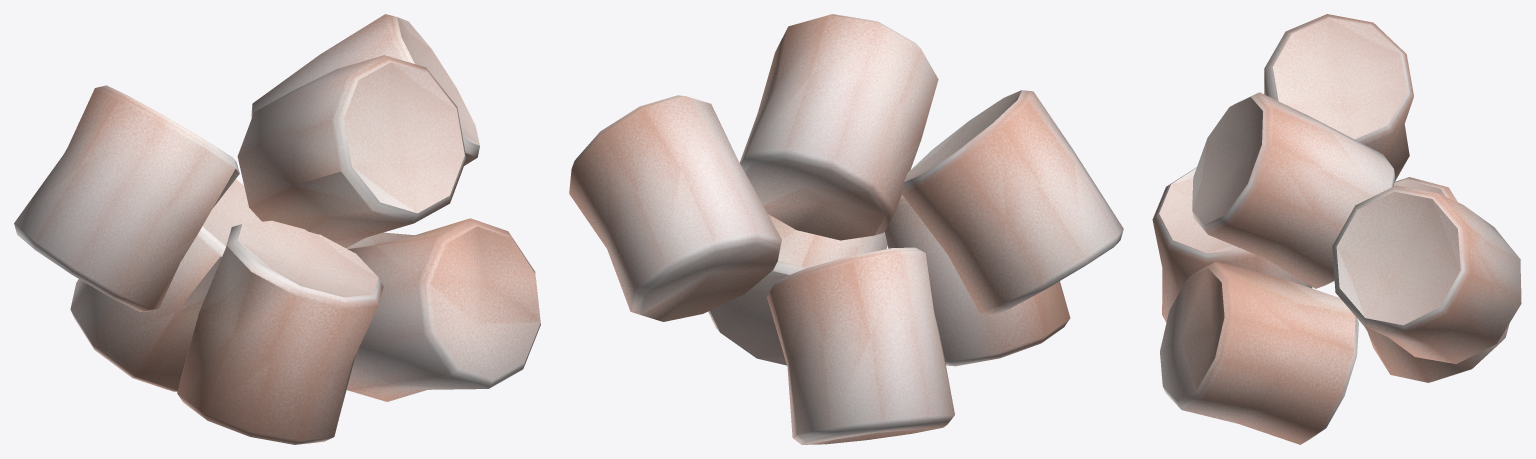
Rendered from fillbom.fbx.
3 renders of one model, left to right at view 1: azimuth 30°, elevation 25°; view 2: azimuth 150°, elevation 25°; view 3: azimuth 270°, elevation 25°, orthographic. The views are drawn at different scales.
Visible parts, largest first — view 1: marshmallow_fill; view 2: marshmallow_fill; view 3: marshmallow_fill.
Boxes of the visible parts, x1,y1,x2,y2 form: marshmallow_fill: (14, 14, 540, 444); marshmallow_fill: (569, 14, 1123, 444); marshmallow_fill: (1152, 14, 1521, 444).
Bounding box in the file's own units: 157 × 109 × 116.
